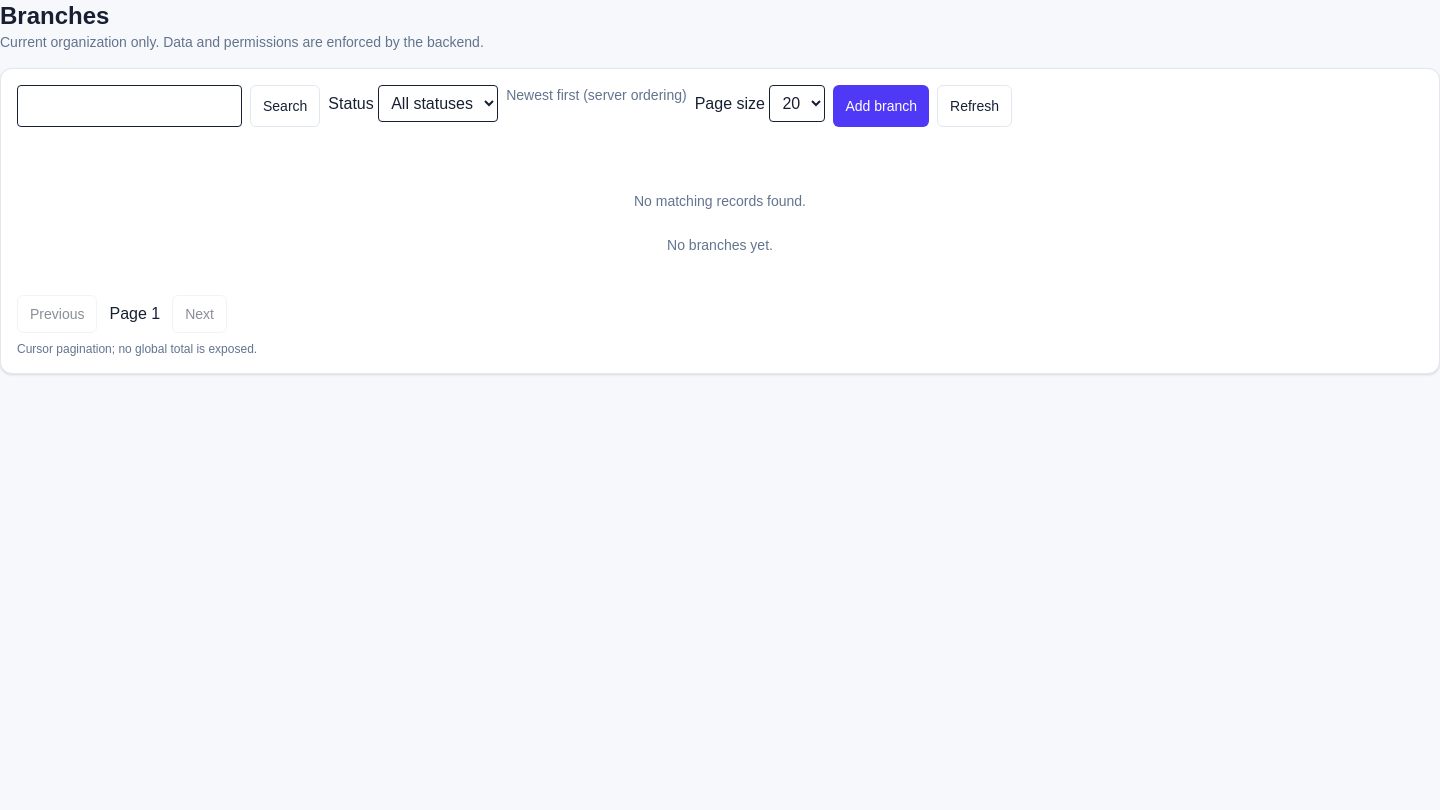
Test: submits an actual branch schema and renders backend validation errors
This screenshot has width=1440, height=810.
Step 1. Click the button "Add branch" → (881, 106), box top-left (833, 85), bottom-right (929, 127)
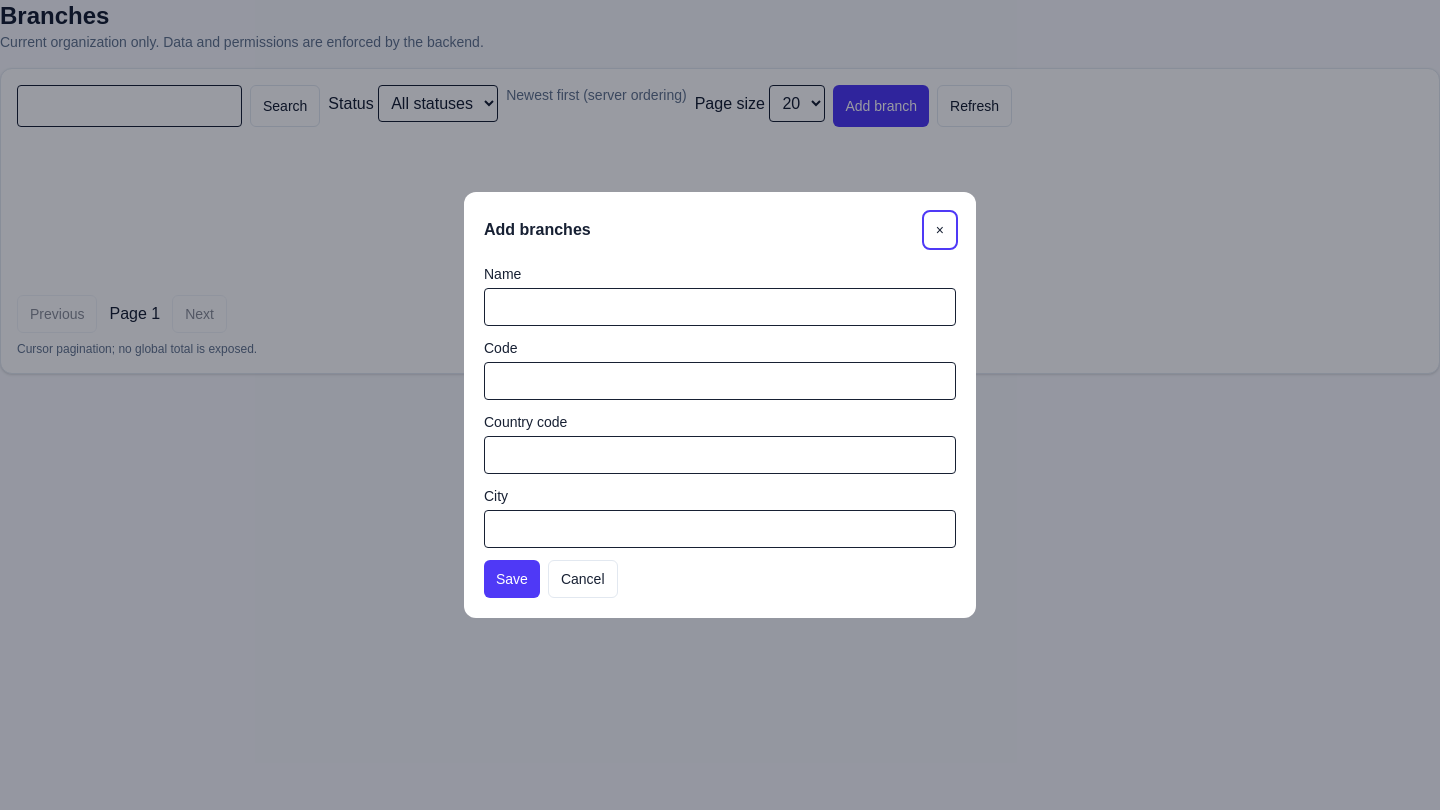
Step 2. Type "New branch" into the field labelled "Name" → (720, 307), box top-left (484, 288), bottom-right (956, 326)
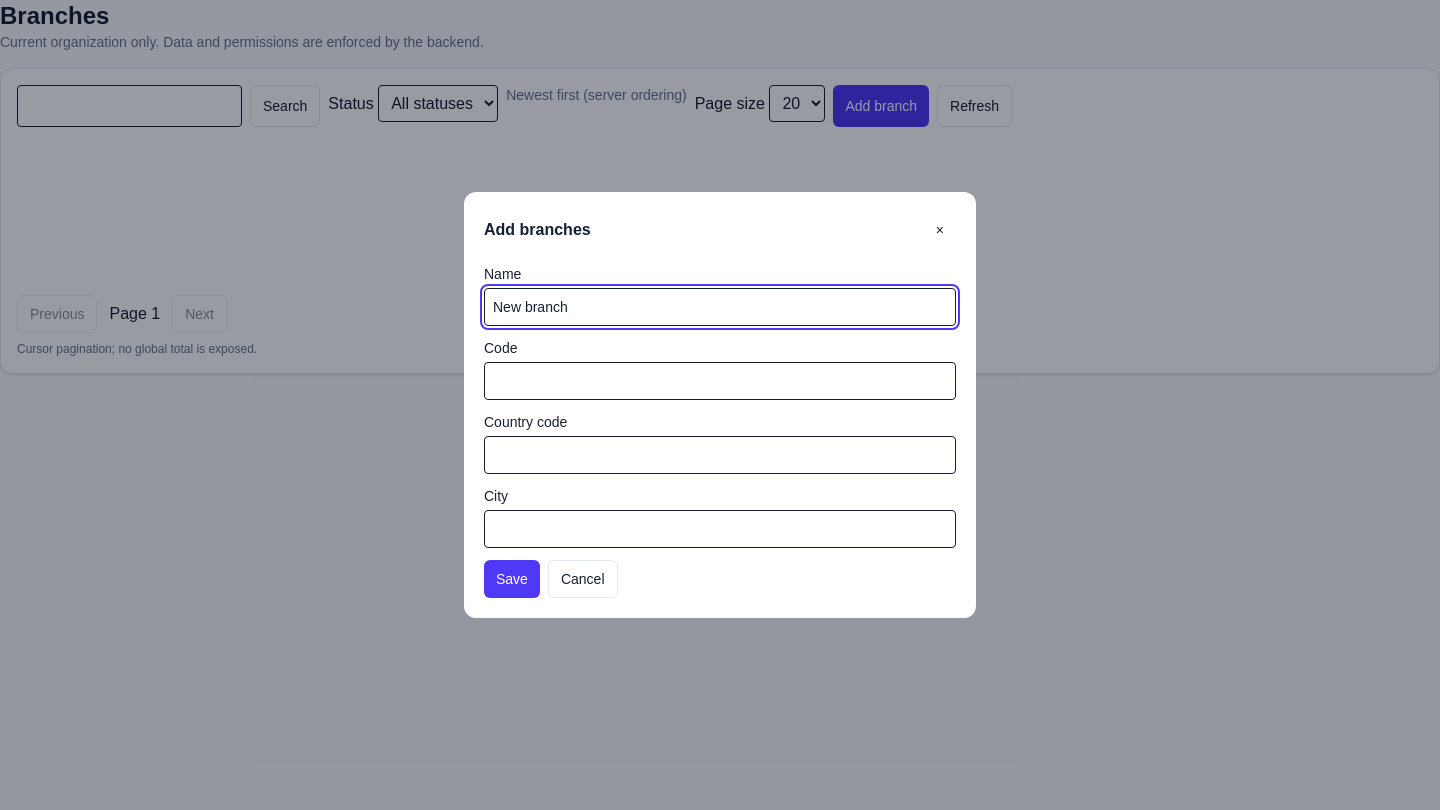
Step 3. Type "NEW" into the field labelled "Code" → (720, 381), box top-left (484, 362), bottom-right (956, 400)
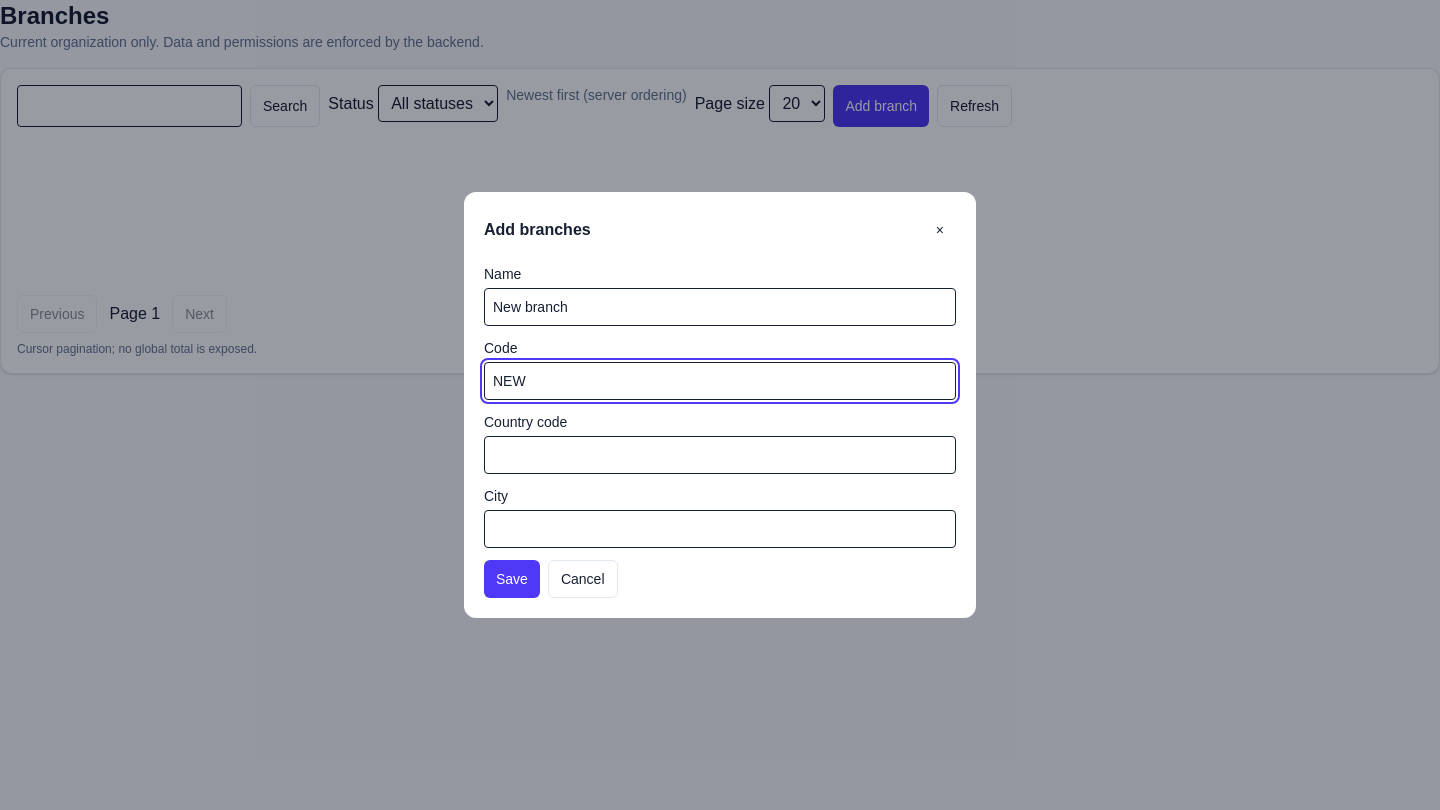
Step 4. Type "IN" into the field labelled "Country code" → (720, 455), box top-left (484, 436), bottom-right (956, 474)
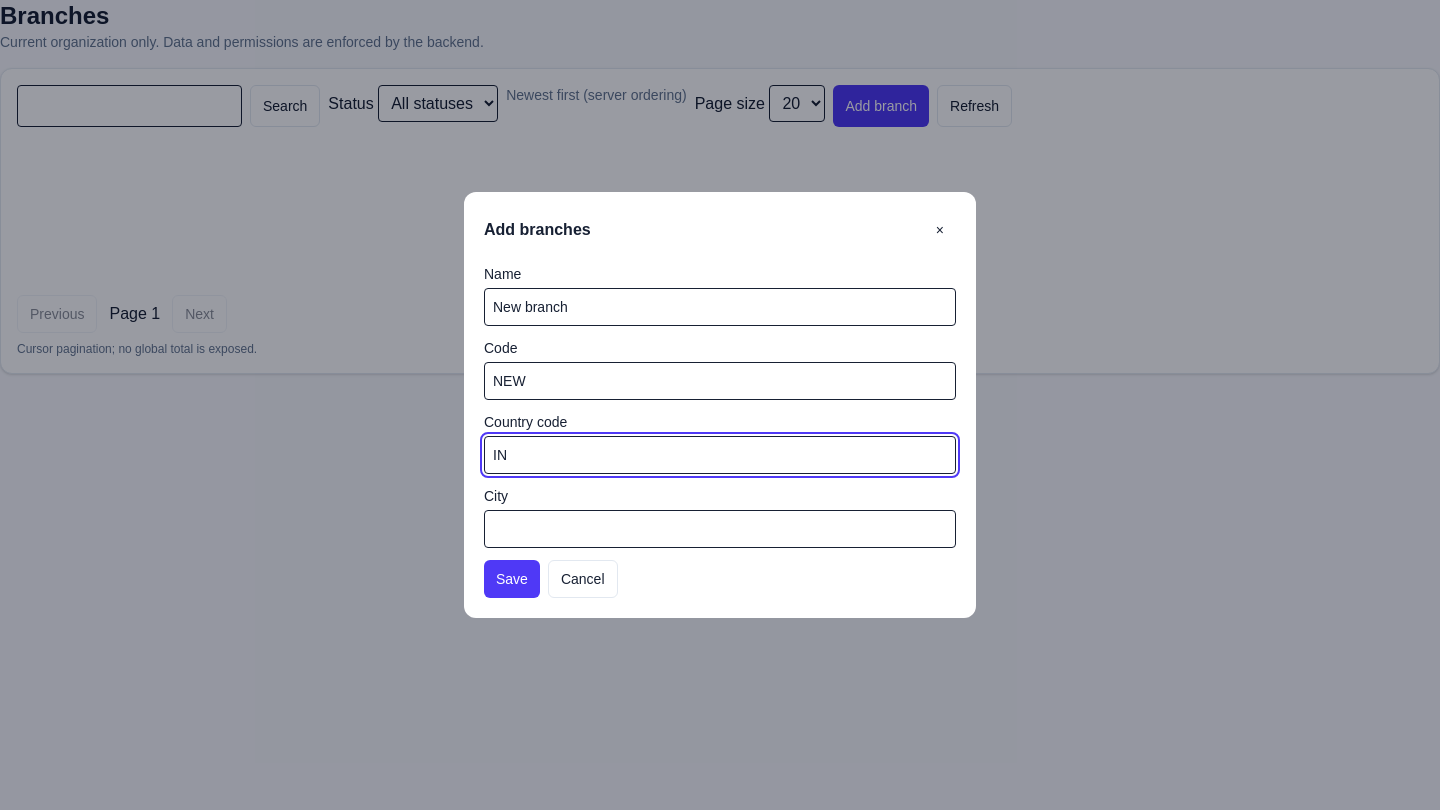
Step 5. Click the button "Save" → (512, 579), box top-left (484, 560), bottom-right (540, 598)
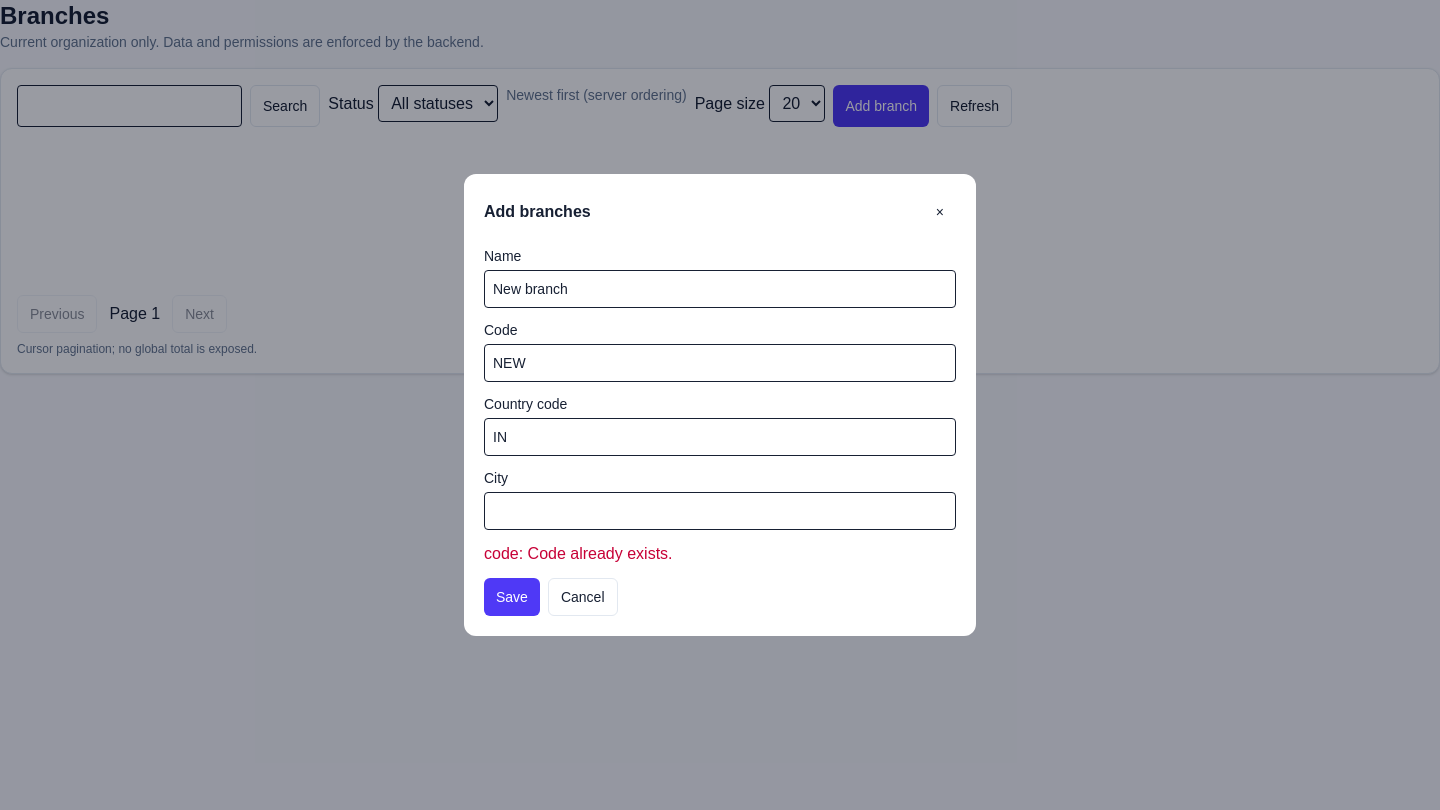
expect the dialog is shown: met, box top-left (464, 174), bottom-right (976, 636)
expect the text "code: Code already exists." is shown: met, box top-left (484, 545), bottom-right (672, 562)
